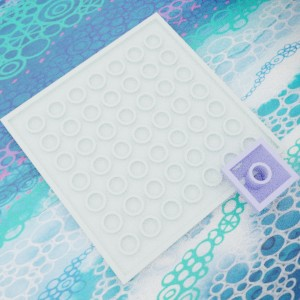lego: (0, 12, 287, 284), (219, 136, 299, 213)
